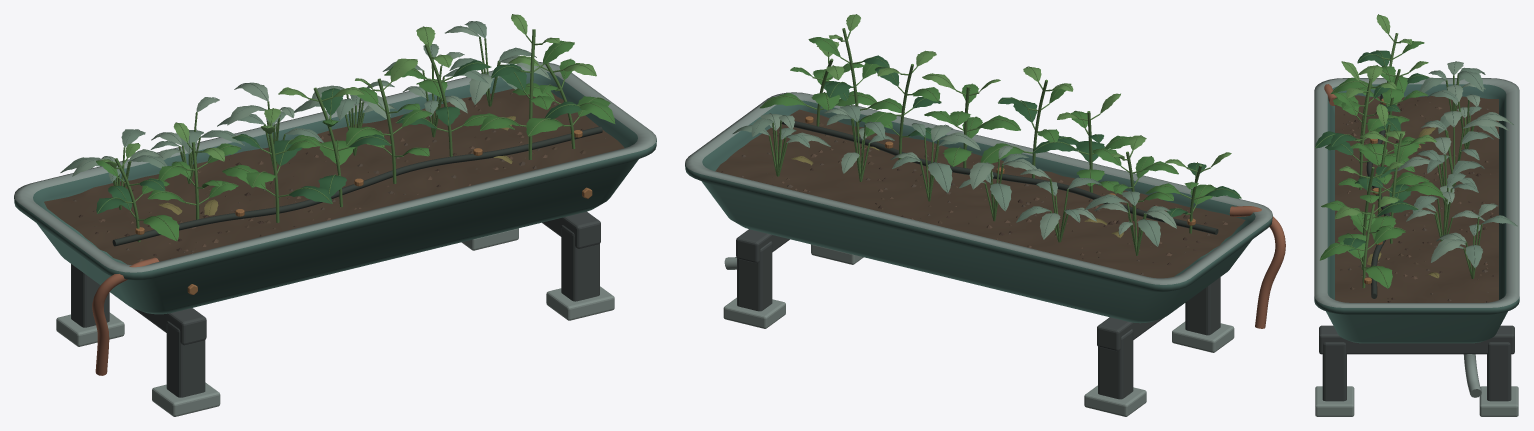
Rendered from roof-garden-bed.glb.
3 renders of one model, left to right at view 1: azimuth 30°, elevation 25°; view 2: azimuth 150°, elevation 25°; view 3: azimuth 270°, elevation 25°, orthographic. The views are drawn at different scales.
Parts seen in each view (by area): view 1: Rain-fed entrance garden / Dark green fired enamel, Rain-fed entrance garden / Potting mix 1, Rain-fed entrance garden / Blackened cast supports, Rain-fed entrance garden / Basil outer leaves, Rain-fed entrance garden / Green petiole, Rain-fed entrance garden / Basil shadow, Rain-fed entrance garden / Weathered galvanized skin, Rain-fed entrance garden / Sage felt, Rain-fed entrance garden / Sage young leaf, Rain-fed entrance garden / Drip line rubber, Rain-fed entrance garden / Young basil, Rain-fed entrance garden / Aged copper pipe; view 2: Rain-fed entrance garden / Dark green fired enamel, Rain-fed entrance garden / Potting mix 1, Rain-fed entrance garden / Basil outer leaves, Rain-fed entrance garden / Blackened cast supports, Rain-fed entrance garden / Green petiole, Rain-fed entrance garden / Sage felt, Rain-fed entrance garden / Weathered galvanized skin, Rain-fed entrance garden / Sage young leaf, Rain-fed entrance garden / Basil shadow, Rain-fed entrance garden / Young basil, Rain-fed entrance garden / Drip line rubber, Rain-fed entrance garden / Aged copper pipe; view 3: Rain-fed entrance garden / Potting mix 1, Rain-fed entrance garden / Dark green fired enamel, Rain-fed entrance garden / Basil outer leaves, Rain-fed entrance garden / Blackened cast supports, Rain-fed entrance garden / Green petiole, Rain-fed entrance garden / Sage felt, Rain-fed entrance garden / Sage young leaf, Rain-fed entrance garden / Basil shadow, Rain-fed entrance garden / Weathered galvanized skin, Rain-fed entrance garden / Young basil, Rain-fed entrance garden / Drip line rubber, Rain-fed entrance garden / Potting mix 3 (+2 smaller).
Part boxes in pixels (x1,y1,x2,y2): Rain-fed entrance garden / Dark green fired enamel: [14, 62, 656, 314]; Rain-fed entrance garden / Potting mix 1: [44, 88, 624, 264]; Rain-fed entrance garden / Blackened cast supports: [71, 211, 600, 397]; Rain-fed entrance garden / Basil outer leaves: [96, 40, 614, 241]; Rain-fed entrance garden / Green petiole: [96, 14, 614, 241]; Rain-fed entrance garden / Basil shadow: [96, 60, 581, 213]; Rain-fed entrance garden / Weathered galvanized skin: [56, 228, 614, 416]; Rain-fed entrance garden / Sage felt: [60, 21, 550, 181]; Rain-fed entrance garden / Sage young leaf: [72, 25, 550, 176]; Rain-fed entrance garden / Drip line rubber: [112, 126, 602, 246]; Rain-fed entrance garden / Young basil: [102, 14, 596, 168]; Rain-fed entrance garden / Aged copper pipe: [92, 257, 159, 375]; Rain-fed entrance garden / Dark green fired enamel: [685, 92, 1272, 323]; Rain-fed entrance garden / Potting mix 1: [715, 109, 1245, 278]; Rain-fed entrance garden / Basil outer leaves: [760, 37, 1216, 204]; Rain-fed entrance garden / Blackened cast supports: [736, 229, 1220, 399]; Rain-fed entrance garden / Green petiole: [759, 14, 1241, 255]; Rain-fed entrance garden / Sage felt: [732, 105, 1176, 246]; Rain-fed entrance garden / Weathered galvanized skin: [723, 244, 1234, 416]; Rain-fed entrance garden / Sage young leaf: [760, 108, 1176, 239]; Rain-fed entrance garden / Basil shadow: [821, 55, 1241, 217]; Rain-fed entrance garden / Young basil: [817, 14, 1231, 167]; Rain-fed entrance garden / Drip line rubber: [781, 121, 1218, 234]; Rain-fed entrance garden / Aged copper pipe: [1229, 206, 1285, 328]; Rain-fed entrance garden / Potting mix 1: [1335, 95, 1498, 302]; Rain-fed entrance garden / Dark green fired enamel: [1314, 78, 1519, 343]; Rain-fed entrance garden / Basil outer leaves: [1320, 41, 1444, 288]; Rain-fed entrance garden / Blackened cast supports: [1319, 325, 1514, 401]; Rain-fed entrance garden / Green petiole: [1315, 14, 1482, 288]; Rain-fed entrance garden / Sage felt: [1397, 61, 1517, 268]; Rain-fed entrance garden / Sage young leaf: [1397, 61, 1513, 262]; Rain-fed entrance garden / Basil shadow: [1315, 50, 1428, 250]; Rain-fed entrance garden / Weathered galvanized skin: [1315, 354, 1518, 416]; Rain-fed entrance garden / Young basil: [1335, 14, 1436, 219]; Rain-fed entrance garden / Drip line rubber: [1366, 94, 1390, 298]; Rain-fed entrance garden / Potting mix 3: [1342, 107, 1493, 300].
Bounding box in the file's own units: 1.68 × 0.7779 × 0.619.
